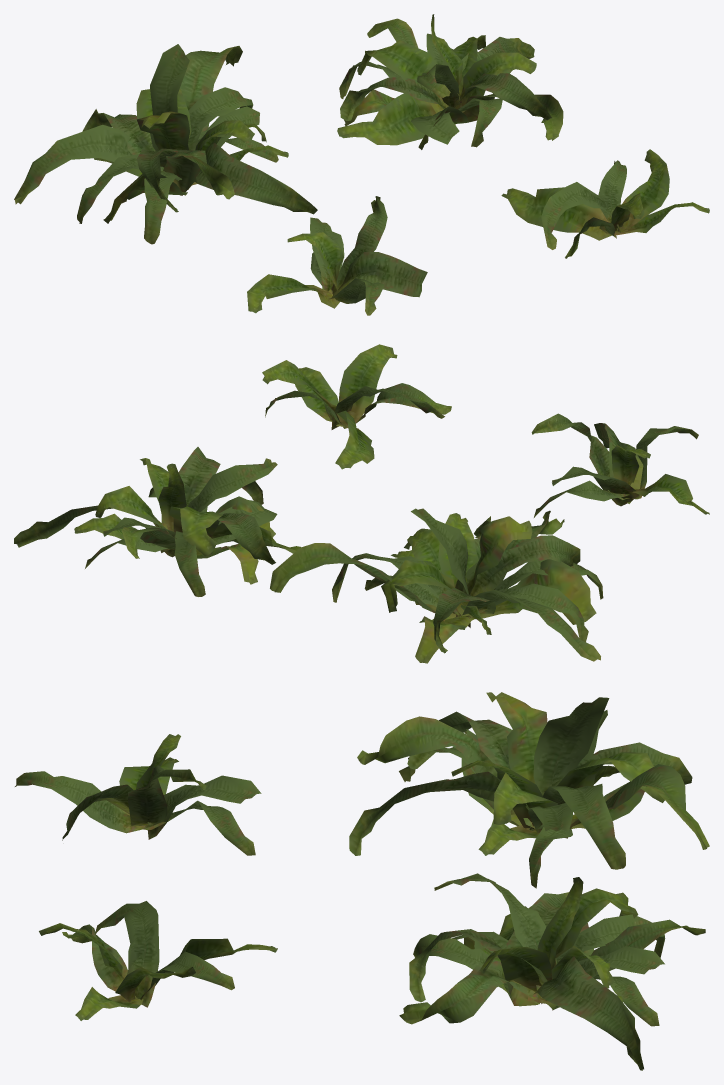
Rendered from fern.glb.
3 views of the same model, one above another, from view 1: azimuth 30°, elevation 25°; view 2: azimuth 150°, elevation 25°; view 3: azimuth 270°, elevation 25° (orthographic). The views are drawn at different scales.
Visible parts, largest first — view 1: fern_02_b; view 2: fern_02_b; view 3: fern_02_b.
Part boxes in pixels (x1,y1,x2,y2): fern_02_b: (14,14,709,315); fern_02_b: (14,344,709,663); fern_02_b: (15,692,709,1070).
Size of the model in its own units: 1.97 by 0.4277 by 1.72.
1 material, 1 textured.
